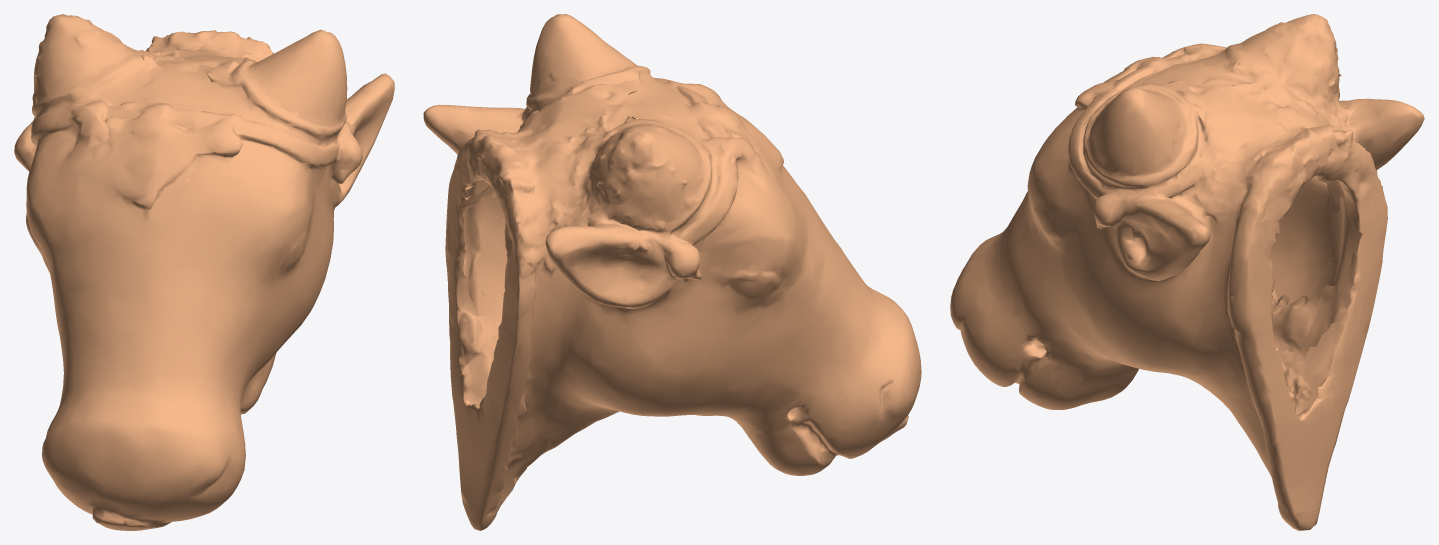
File: Saivam_Nandhi_Mugam_11.glb
3 renders of one model, left to right at view 1: azimuth 30°, elevation 25°; view 2: azimuth 150°, elevation 25°; view 3: azimuth 270°, elevation 25°, orthographic.
Visible parts, largest first — view 1: Saivam_Nandhi_Mugam_11; view 2: Saivam_Nandhi_Mugam_11; view 3: Saivam_Nandhi_Mugam_11.
Boxes of the visible parts, x1,y1,x2,y2 form: Saivam_Nandhi_Mugam_11: [14, 14, 394, 530]; Saivam_Nandhi_Mugam_11: [423, 14, 921, 530]; Saivam_Nandhi_Mugam_11: [950, 14, 1424, 530].
Size of the model in its own units: 0.3431 by 0.3541 by 0.344.
